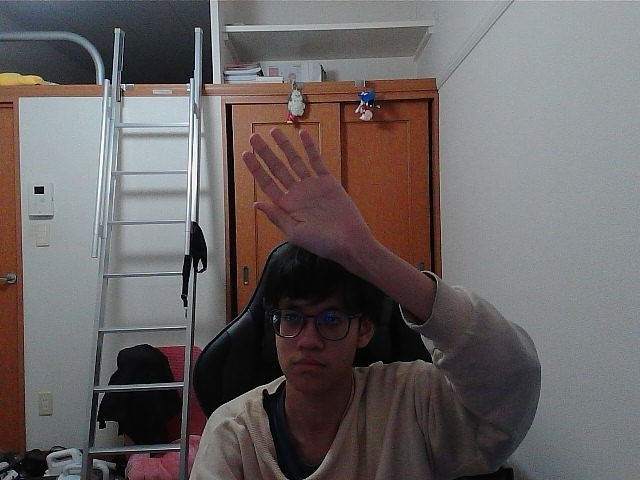open_palm: (259, 137, 338, 240)
